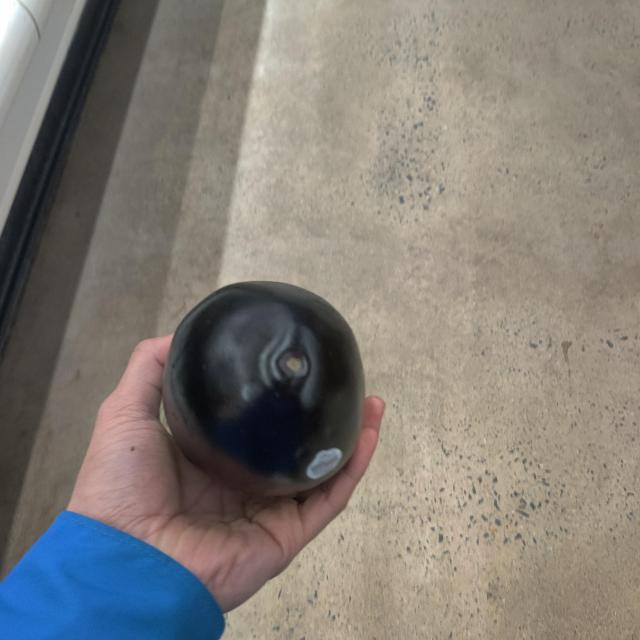Eggplant: (162, 280, 364, 490)
